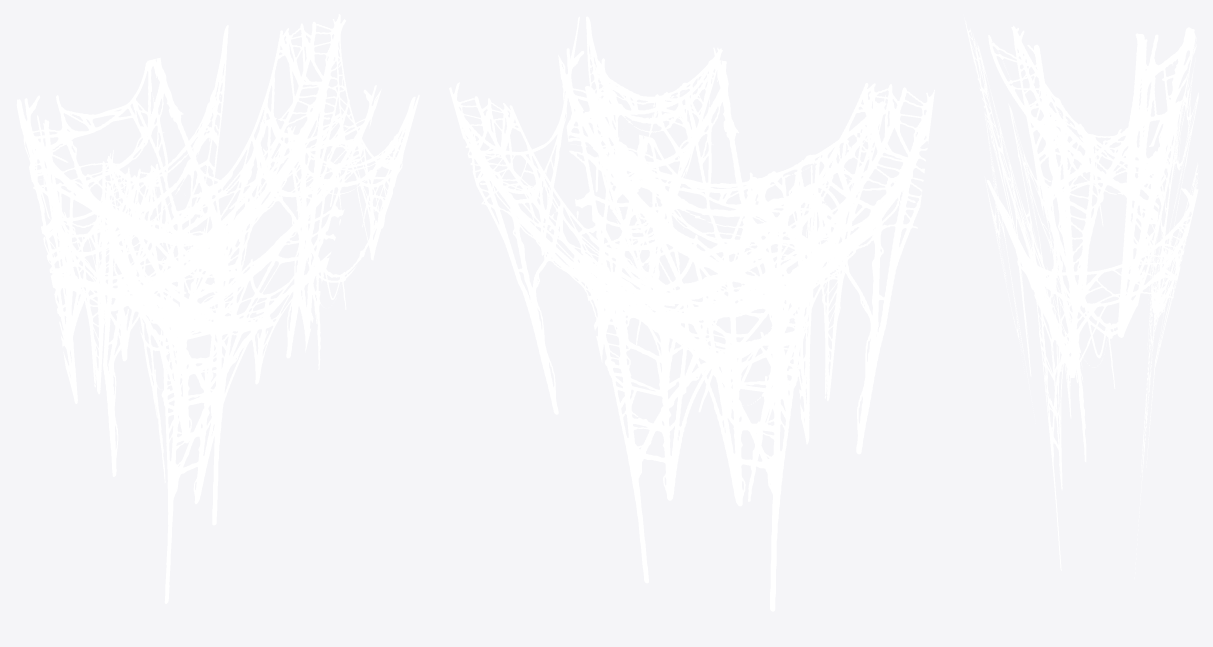
3 renders of one model, left to right at view 1: azimuth 30°, elevation 25°; view 2: azimuth 150°, elevation 25°; view 3: azimuth 270°, elevation 25°, orthographic. The views are drawn at different scales.
Parts seen in each view (by area): view 1: SM_Cob_Web_08_LOD0; view 2: SM_Cob_Web_08_LOD0; view 3: SM_Cob_Web_08_LOD0.
Boxes of the visible parts, x1,y1,x2,y2 form: SM_Cob_Web_08_LOD0: [16, 14, 419, 603]; SM_Cob_Web_08_LOD0: [449, 16, 934, 611]; SM_Cob_Web_08_LOD0: [964, 17, 1198, 578].
Bounding box in the file's own units: 1.92 × 2.77 × 1.09.
Materials: 1 (1 with a texture image).
